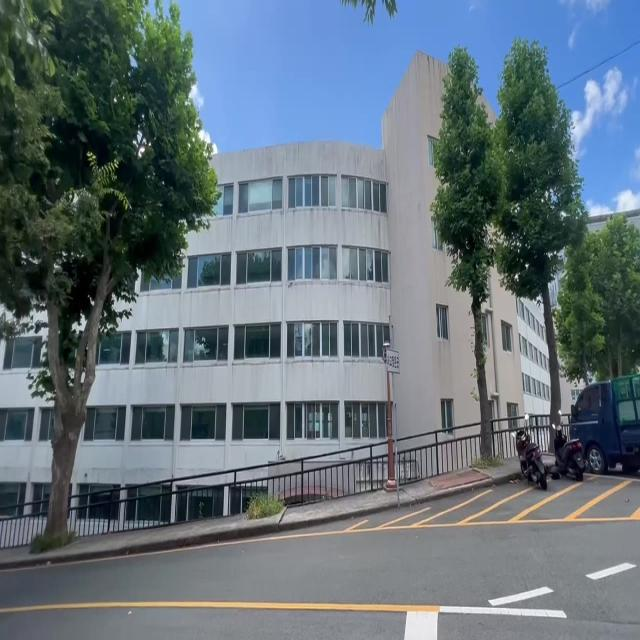building: (220, 71, 456, 501)
